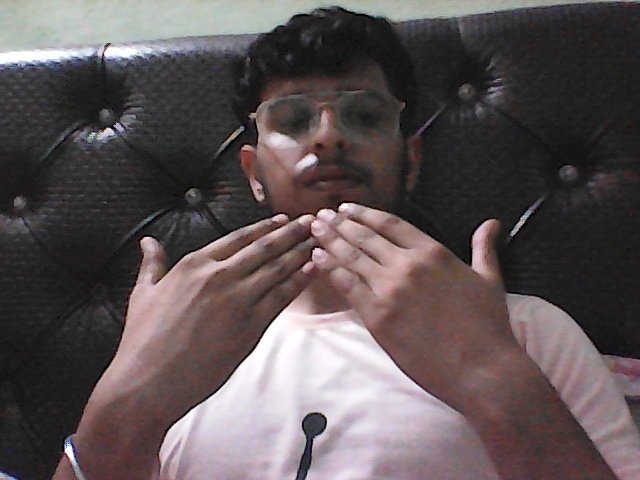thankyou: (91, 195, 545, 474)
